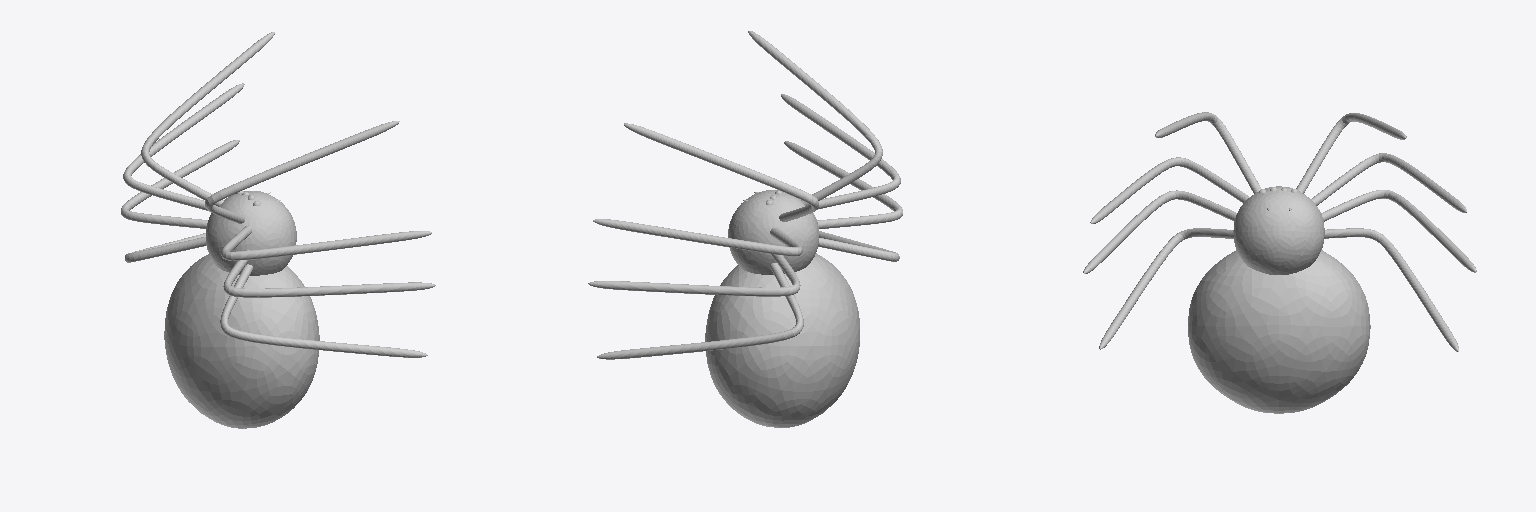
The model's file is SpiderNov21.obj.
3 renders of one model, left to right at view 1: azimuth 30°, elevation 25°; view 2: azimuth 150°, elevation 25°; view 3: azimuth 270°, elevation 25°, orthographic.
Parts seen in each view (by area): view 1: SpiderModel_Icosphere; view 2: SpiderModel_Icosphere; view 3: SpiderModel_Icosphere.
Part boxes in pixels (x1,y1,x2,y2): SpiderModel_Icosphere: (121, 32, 435, 428); SpiderModel_Icosphere: (588, 31, 902, 427); SpiderModel_Icosphere: (1083, 112, 1476, 413).
Size of the model in its own units: 1.82 by 3.42 by 3.79.